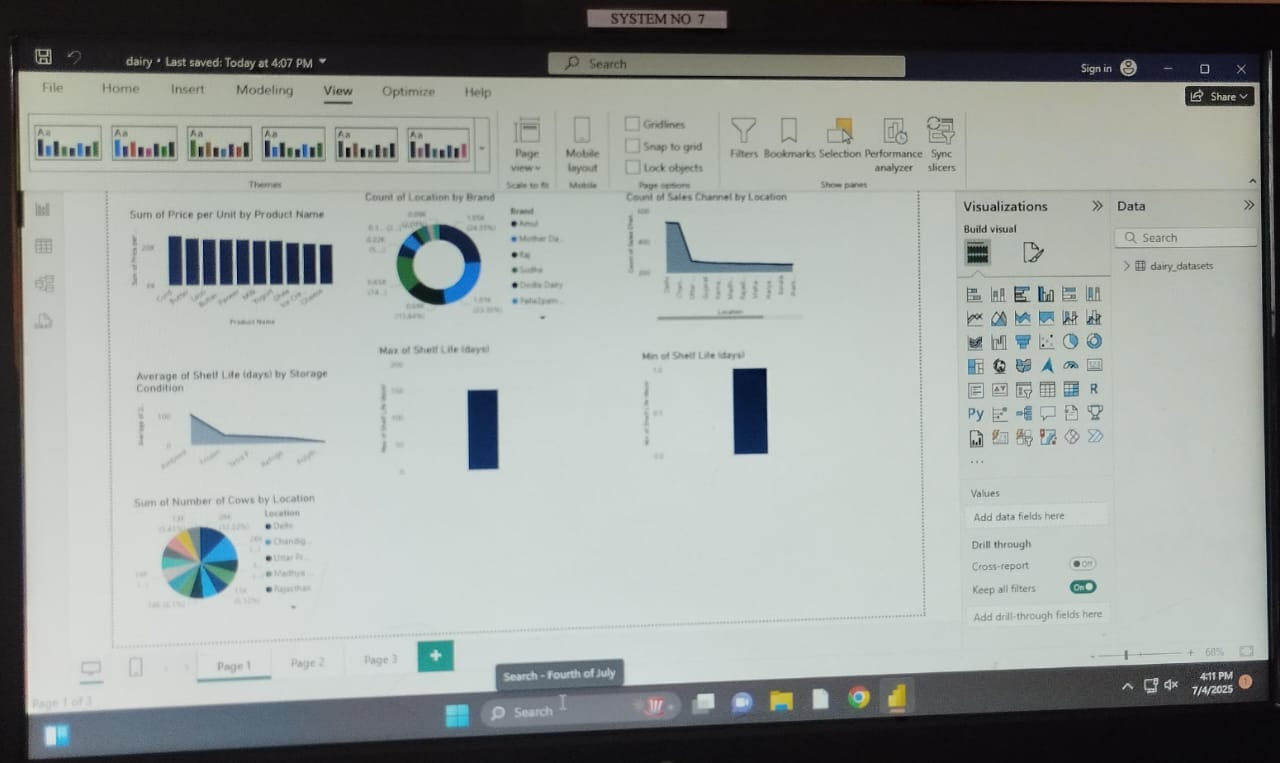

What the dashboard file says about the page in this screenshot:
{"tool":"powerbi","page":{"name":"Page 1","canvas":[1280,720],"ordinal":0},"visuals":[{"type":"pieChart","fields":{"Category":["dairy_datasets.Location"],"Y":["Sum(dairy_datasets.Number of Cows)"]},"box":[26.3,484.4,288.3,197.6],"z":0},{"type":"donutChart","fields":{"Category":["dairy_datasets.Brand"],"Y":["CountNonNull(dairy_datasets.Location)"]},"box":[380.7,0,333.1,221.5],"z":1000},{"type":"stackedAreaChart","fields":{"Y":["CountNonNull(dairy_datasets.Sales Channel)"],"Category":["dairy_datasets.Location"]},"box":[792.6,0,298.7,221.5],"z":2000},{"type":"columnChart","fields":{"Y":["Max(dairy_datasets.Shelf Life (days))"]},"box":[398,248.8,288.3,222.4],"z":3000},{"type":"columnChart","fields":{"Y":["Min(dairy_datasets.Shelf Life (days))"]},"box":[815.1,264.9,323.4,191.7],"z":4000},{"type":"columnChart","fields":{"Y":["Sum(dairy_datasets.Price per Unit)"],"Category":["dairy_datasets.Product Name"]},"box":[26.3,27.8,323.4,193.2],"z":5000},{"type":"stackedAreaChart","fields":{"Category":["dairy_datasets.Storage Condition"],"Y":["Avg(dairy_datasets.Shelf Life (days))"]},"box":[32.2,283.9,311.7,172.7],"z":6000}]}

Visuals, with their boxes on the page's 1280x720 design canvas (x1, y1, x2, y2). These are canvas units, not pixel positions in the 1280x763 screenshot, which may show the page scaled, cropped or inside an application window:
pieChart - dairy_datasets.Location x Sum(dairy_datasets.Number of Cows): <bbox>26, 484, 315, 682</bbox>
donutChart - dairy_datasets.Brand x CountNonNull(dairy_datasets.Location): <bbox>381, 0, 714, 222</bbox>
stackedAreaChart - CountNonNull(dairy_datasets.Sales Channel) x dairy_datasets.Location: <bbox>793, 0, 1091, 222</bbox>
columnChart - Max(dairy_datasets.Shelf Life (days)): <bbox>398, 249, 686, 471</bbox>
columnChart - Min(dairy_datasets.Shelf Life (days)): <bbox>815, 265, 1138, 457</bbox>
columnChart - Sum(dairy_datasets.Price per Unit) x dairy_datasets.Product Name: <bbox>26, 28, 350, 221</bbox>
stackedAreaChart - dairy_datasets.Storage Condition x Avg(dairy_datasets.Shelf Life (days)): <bbox>32, 284, 344, 457</bbox>
